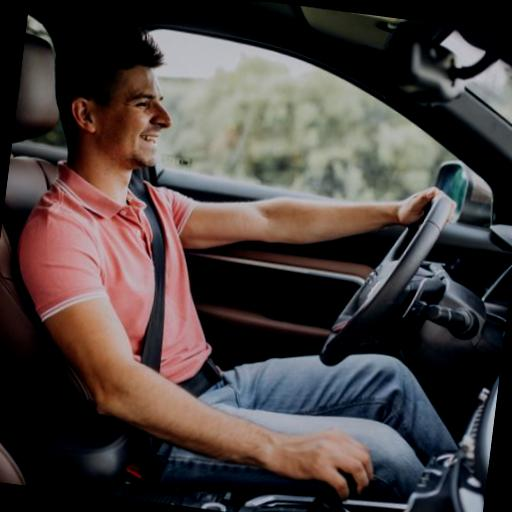Hands-on-the-Wheel: (380, 163, 482, 246)
